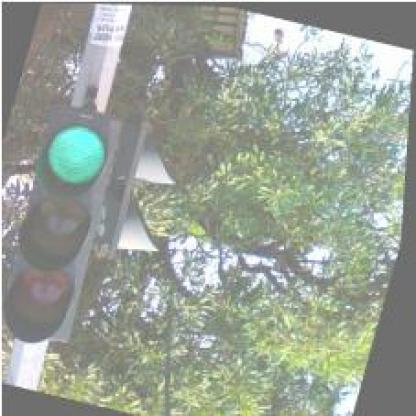green: (0, 98, 125, 342)
